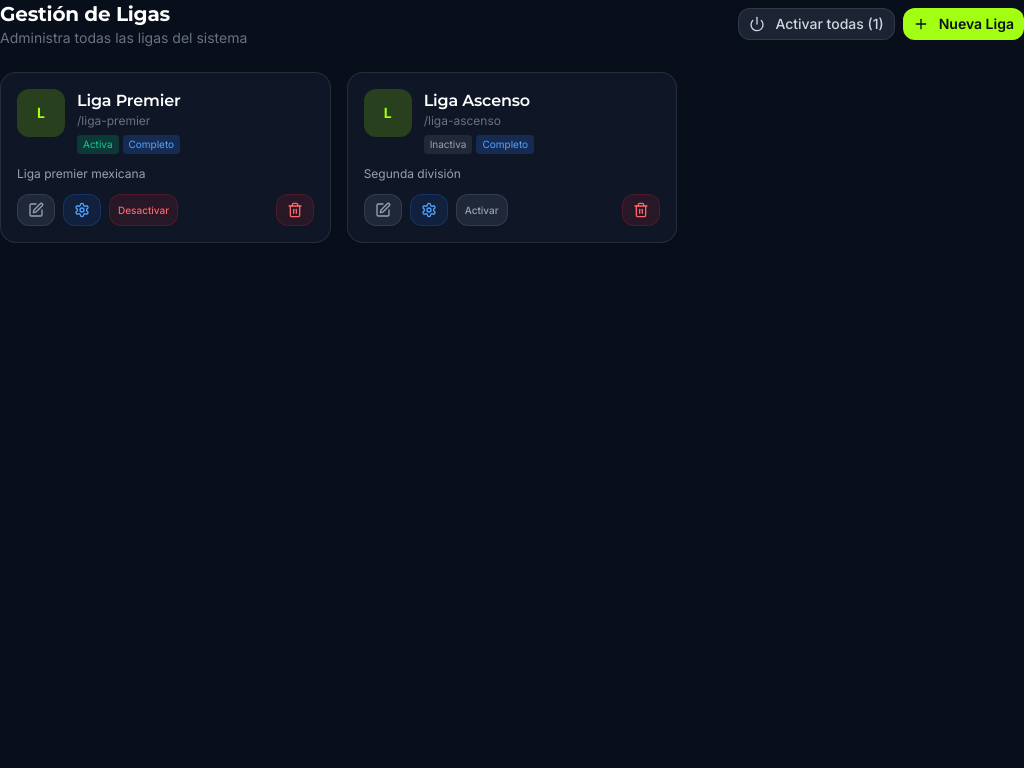
Test: Change the admin of a league › shows the 409 of a duplicate email on the email field
This screenshot has width=1024, height=768.
Expected: the heading "Liga Premier" is shown, [77,91,181,110]
Click the button named "editar " at coordinates (36, 210), box [17,194,55,226]
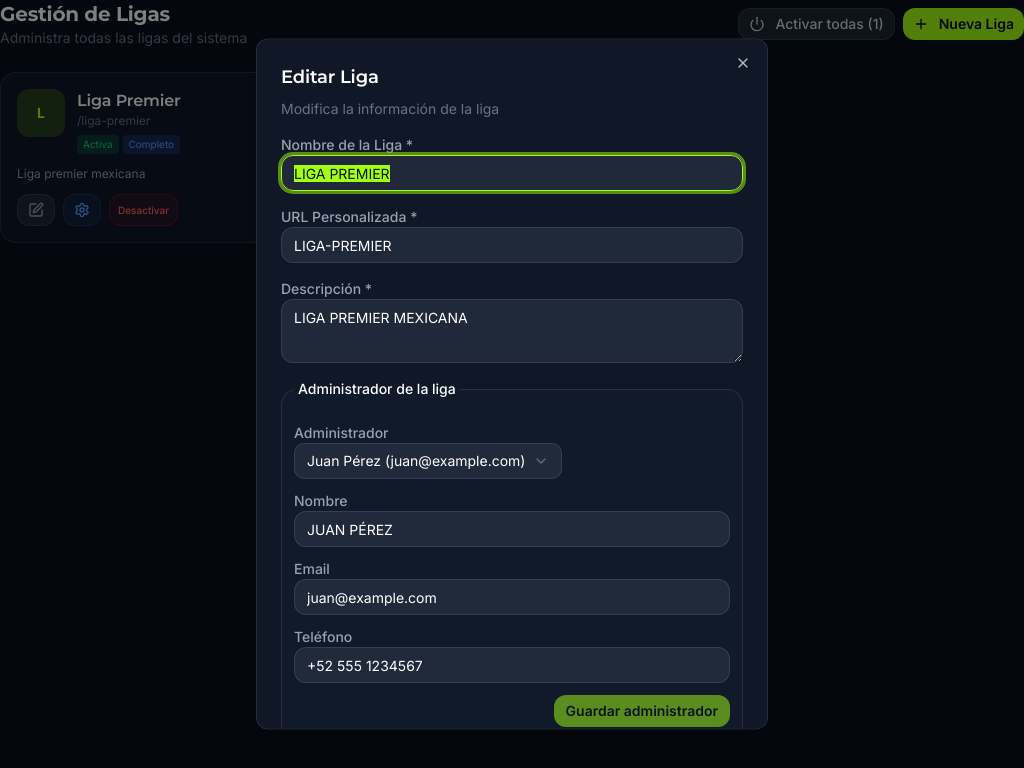
Replace the text in the field labelled "Email" with "otro@example.com" at coordinates (512, 597), box [294,579,730,615]
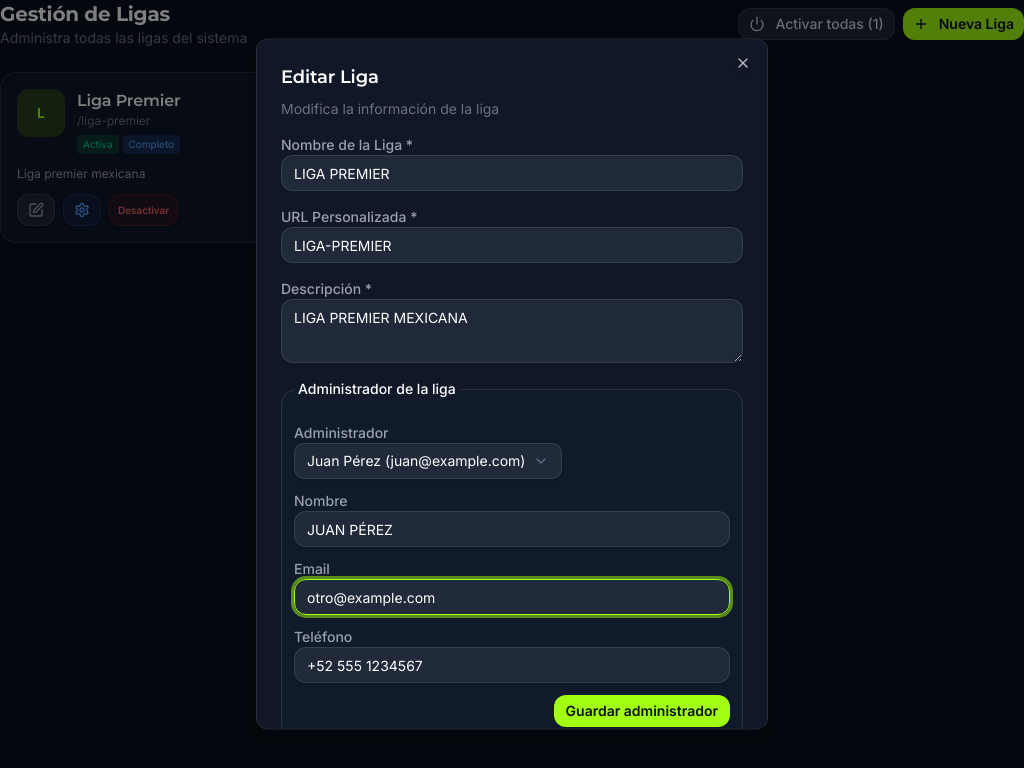
Click the button "Guardar administrador" at coordinates (642, 711), box [554,695,730,727]
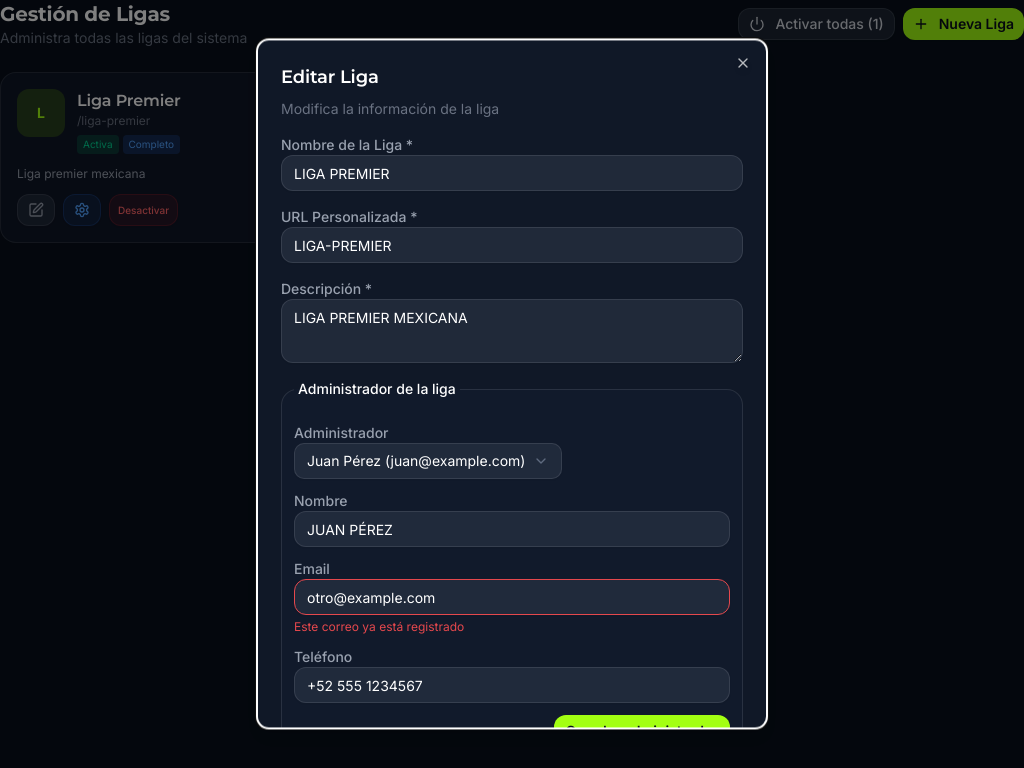
Now the text "Este correo ya está registrado" is shown, box [294,619,464,634]
